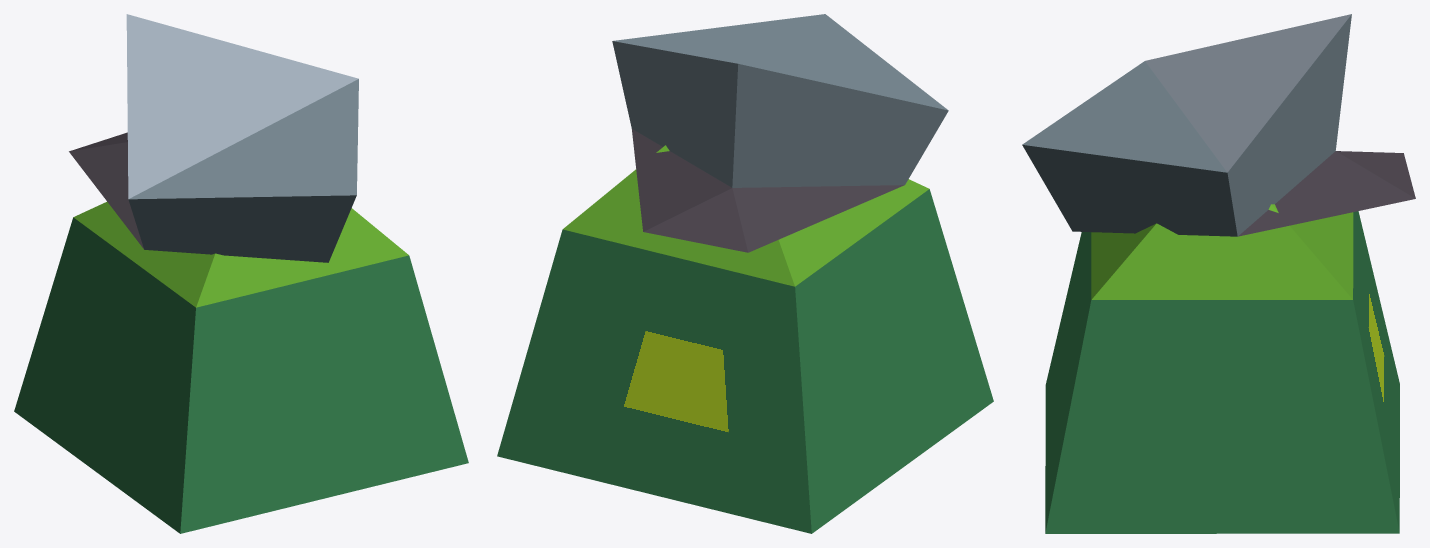
The model's file is alien_captain.fbx.
3 renders of one model, left to right at view 1: azimuth 30°, elevation 25°; view 2: azimuth 150°, elevation 25°; view 3: azimuth 270°, elevation 25°, orthographic. The views are drawn at different scales.
Visible parts, largest first — view 1: AlienCaptain; view 2: AlienCaptain; view 3: AlienCaptain.
Part boxes in pixels (x1=…): AlienCaptain: x1=14, y1=14, x2=468, y2=533; AlienCaptain: x1=497, y1=14, x2=993, y2=533; AlienCaptain: x1=1022, y1=14, x2=1415, y2=533.
Bounding box in the file's own units: 9.56 × 12.19 × 10.42.
1 material, 1 textured.
